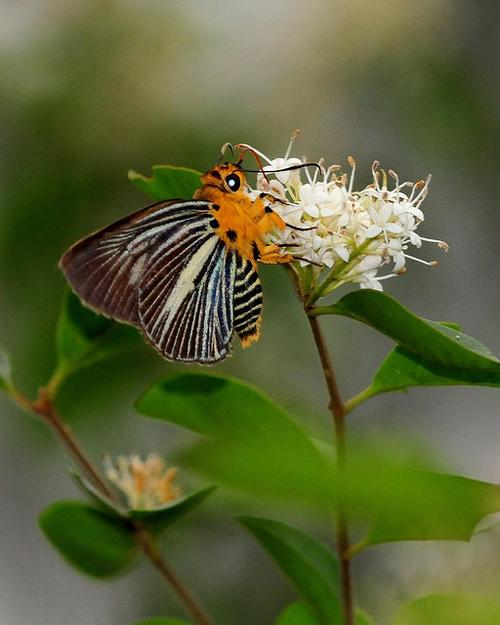Hesperiidae: (55, 127, 323, 368)
